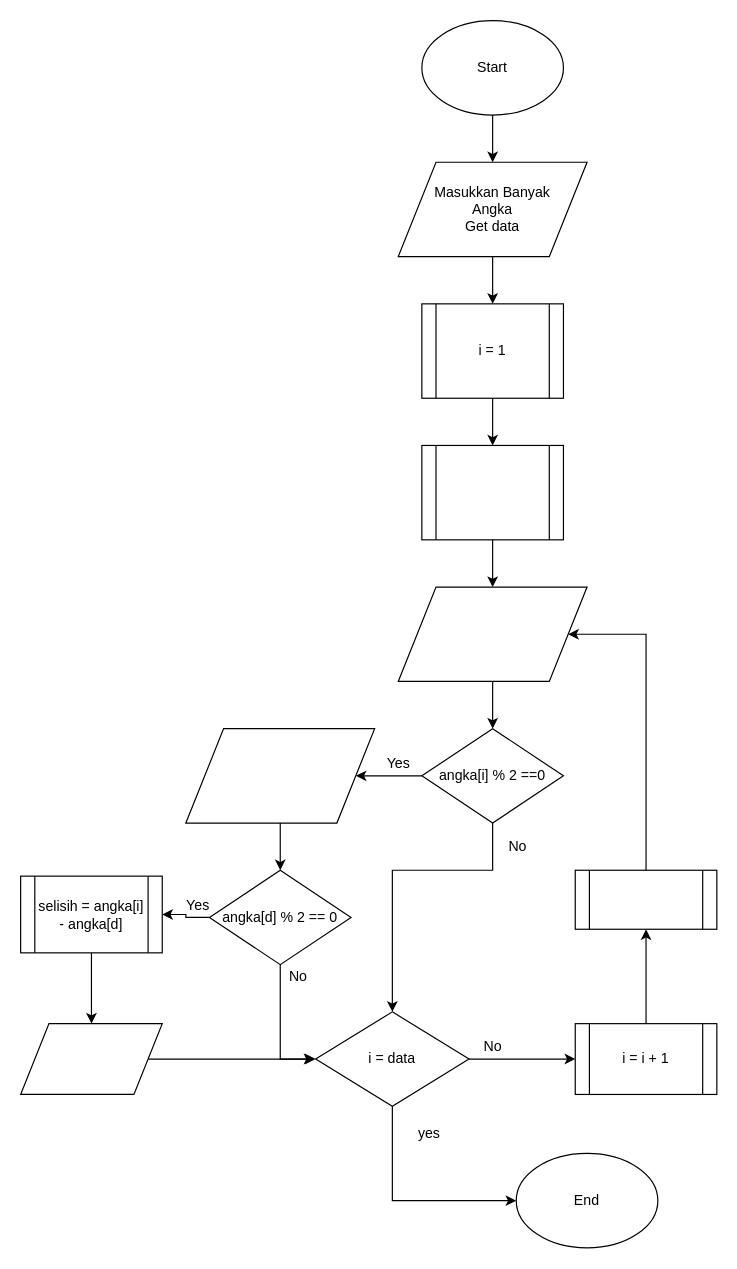
Some shapes in this 737 by 1269 pixel diagram are drawn without their labels. The shapes that lost their labels are listed below. From the top down, each one's centre as x and y in pixels, then its label:
pixel 492 492: d = 2
pixel 492 633: Masukkan Angka Ke +i Get angka[i]
pixel 280 775: Masukkan Angka Ke +d Get angka[d]
pixel 645 899: d = d + 1
pixel 90 1058: Print selisih
